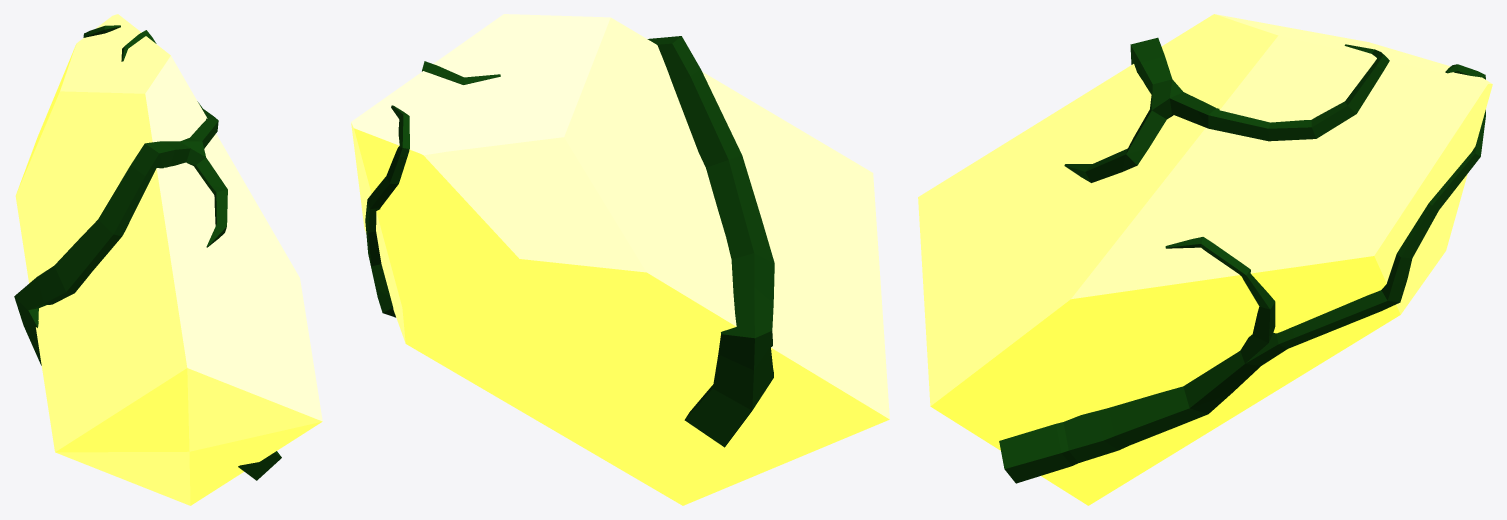
File: CrystalAmbiance.fbx
3 views of the same model, side by side, from view 1: azimuth 30°, elevation 25°; view 2: azimuth 150°, elevation 25°; view 3: azimuth 270°, elevation 25° (orthographic). The views are drawn at different scales.
Visible parts, largest first — view 1: Vert.002; view 2: Vert.002; view 3: Vert.002.
Part boxes in pixels (box(x1,y1,x2,y2)): Vert.002: box(14, 14, 322, 505); Vert.002: box(351, 14, 889, 505); Vert.002: box(918, 14, 1492, 505).
Size of the model in its own units: 444 by 642 by 663.
